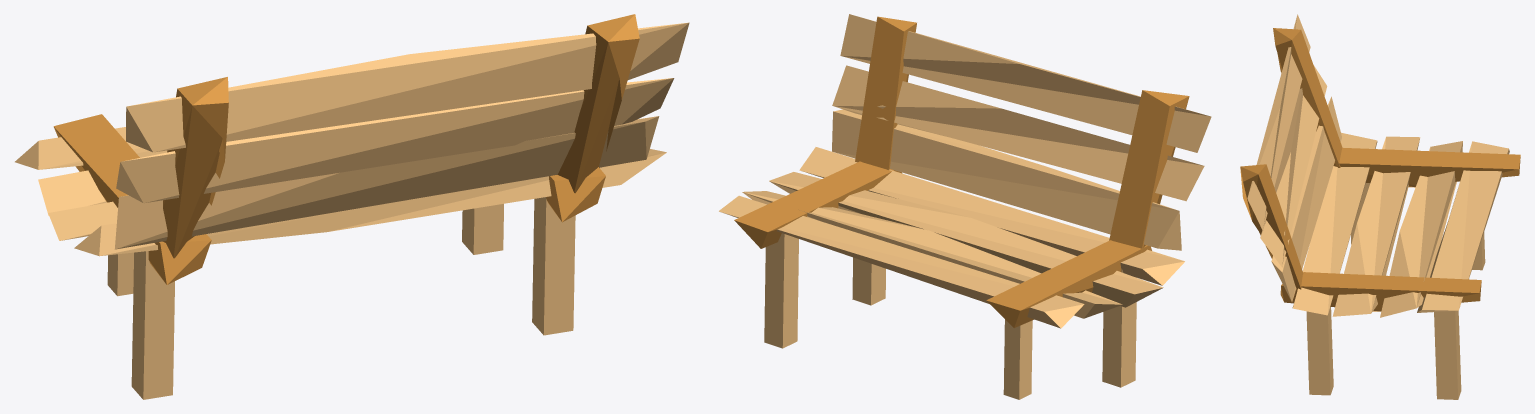
3 renders of one model, left to right at view 1: azimuth 30°, elevation 25°; view 2: azimuth 150°, elevation 25°; view 3: azimuth 270°, elevation 25°, orthographic. The views are drawn at different scales.
Visible parts, largest first — view 1: mesh_1299767198, mesh_1039148927, mesh_124624116, mesh_1406434334, mesh_1753618533, mesh_4488951, mesh_2003978476, mesh_1140816227, mesh_942993265, mesh_1277837639, mesh_885010227, mesh_1055748872 (+3 smaller); view 2: mesh_124624116, mesh_1299767198, mesh_1039148927, mesh_1406434334, mesh_1232295073, mesh_947066265, mesh_1753618533, mesh_1277837639, mesh_4488951, mesh_2003978476, mesh_1055748872, mesh_885010227 (+3 smaller); view 3: mesh_1232295073, mesh_947066265, mesh_1277837639, mesh_1406434334, mesh_2003978476, mesh_1055748872, mesh_1039148927, mesh_124624116, mesh_1299767198, mesh_1753618533, mesh_4488951, mesh_885010227 (+2 smaller).
Boxes of the visible parts, bbox=[...] form: mesh_1299767198: bbox=[126, 22, 689, 152]; mesh_1039148927: bbox=[116, 78, 674, 203]; mesh_124624116: bbox=[114, 116, 659, 249]; mesh_1406434334: bbox=[74, 149, 666, 256]; mesh_1753618533: bbox=[163, 77, 228, 258]; mesh_4488951: bbox=[557, 14, 639, 193]; mesh_2003978476: bbox=[53, 114, 211, 284]; mesh_1140816227: bbox=[131, 251, 174, 399]; mesh_942993265: bbox=[532, 197, 575, 335]; mesh_1277837639: bbox=[38, 170, 106, 215]; mesh_885010227: bbox=[462, 204, 503, 254]; mesh_1055748872: bbox=[546, 167, 605, 222]; mesh_124624116: bbox=[832, 109, 1181, 250]; mesh_1299767198: bbox=[840, 14, 1211, 152]; mesh_1039148927: bbox=[832, 65, 1204, 201]; mesh_1406434334: bbox=[799, 147, 1184, 285]; mesh_1232295073: bbox=[769, 172, 1163, 307]; mesh_947066265: bbox=[719, 195, 1084, 328]; mesh_1753618533: bbox=[1109, 90, 1189, 253]; mesh_1277837639: bbox=[742, 191, 1122, 318]; mesh_4488951: bbox=[855, 16, 916, 169]; mesh_2003978476: bbox=[986, 240, 1151, 327]; mesh_1055748872: bbox=[734, 161, 902, 248]; mesh_885010227: bbox=[764, 233, 798, 348]; mesh_1232295073: bbox=[1332, 136, 1420, 316]; mesh_947066265: bbox=[1417, 141, 1509, 312]; mesh_1277837639: bbox=[1380, 141, 1462, 317]; mesh_1406434334: bbox=[1292, 132, 1377, 315]; mesh_2003978476: bbox=[1333, 148, 1520, 187]; mesh_1055748872: bbox=[1280, 272, 1481, 311]; mesh_1039148927: bbox=[1260, 65, 1327, 267]; mesh_124624116: bbox=[1271, 96, 1341, 301]; mesh_1299767198: bbox=[1247, 14, 1310, 230]; mesh_1753618533: bbox=[1273, 28, 1342, 167]; mesh_4488951: bbox=[1240, 164, 1303, 290]; mesh_885010227: bbox=[1434, 310, 1461, 399].
Size of the model in its own units: 17.64 by 10.81 by 11.6.
